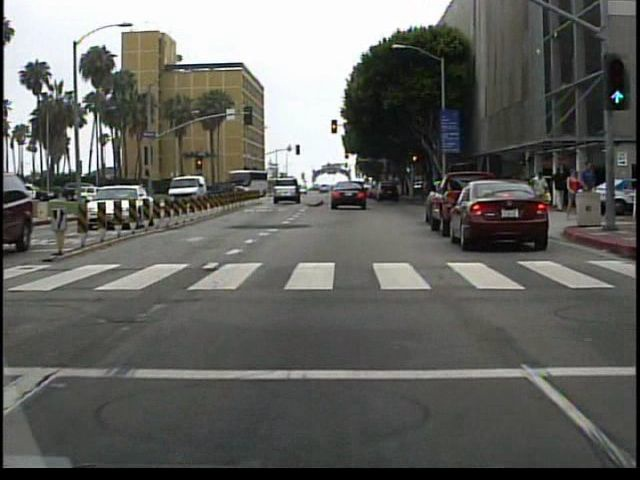person: (576, 161, 597, 222), (563, 165, 582, 223), (549, 165, 568, 216), (530, 169, 549, 216)
